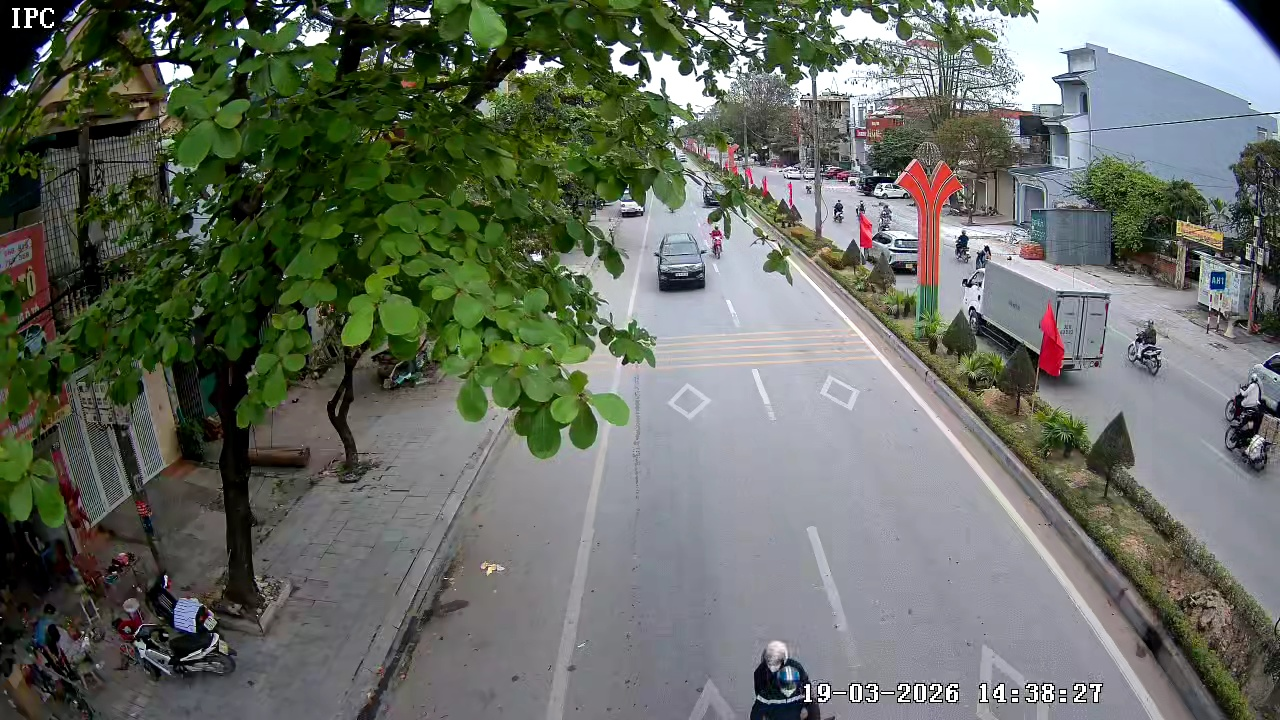car: (652, 231, 709, 292), (616, 199, 647, 218)
motorbike: (749, 639, 835, 719), (1239, 394, 1278, 475), (1125, 318, 1167, 377), (708, 219, 727, 260)
truck: (961, 256, 1112, 374)
